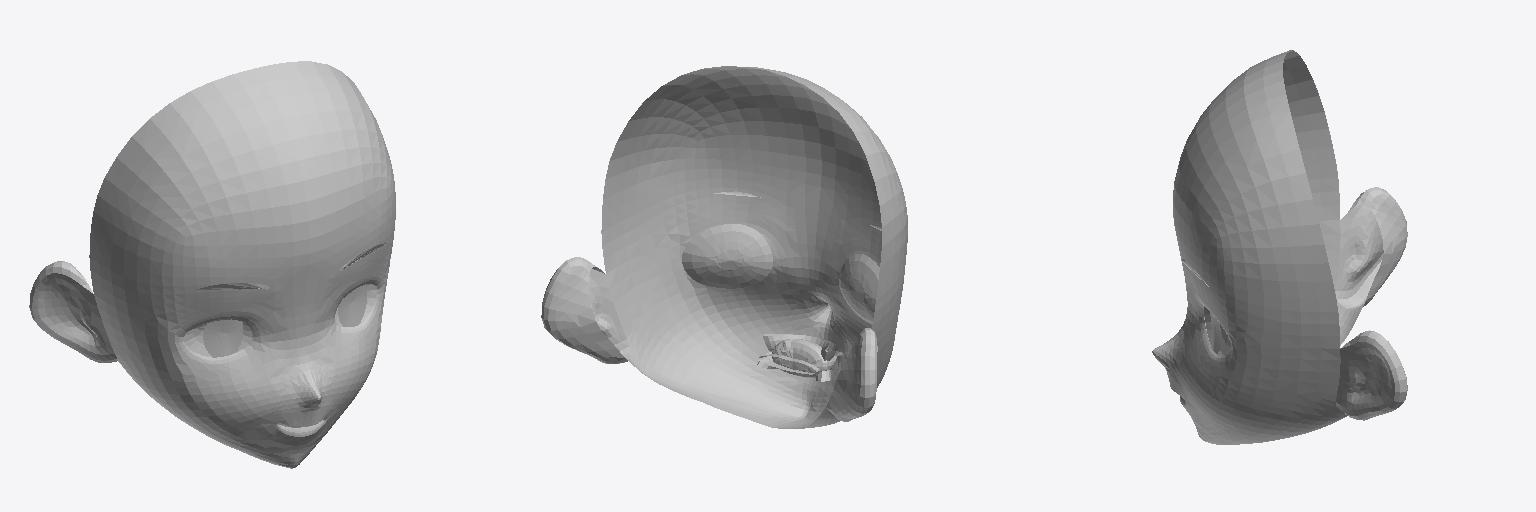
File: cheekSquintRight.obj
The picture shows the model from 3 angles: view 1: azimuth 30°, elevation 25°; view 2: azimuth 150°, elevation 25°; view 3: azimuth 270°, elevation 25°; orthographic projection.
Parts seen in each view (by area): view 1: Face; view 2: Face; view 3: Face.
Boxes of the visible parts, x1,y1,x2,y2 form: Face: [29, 61, 395, 468]; Face: [541, 66, 907, 428]; Face: [1152, 50, 1407, 444].
Bounding box in the file's own units: 0.2176 × 0.2333 × 0.1449.